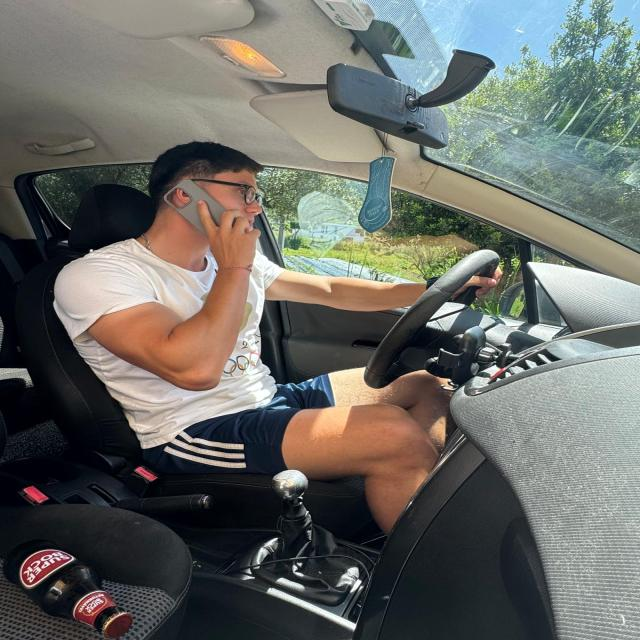Phone: (140, 171, 270, 268)
